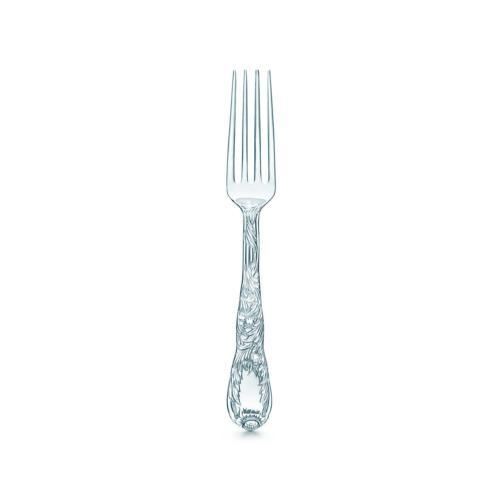Fork: (226, 69, 276, 441)
